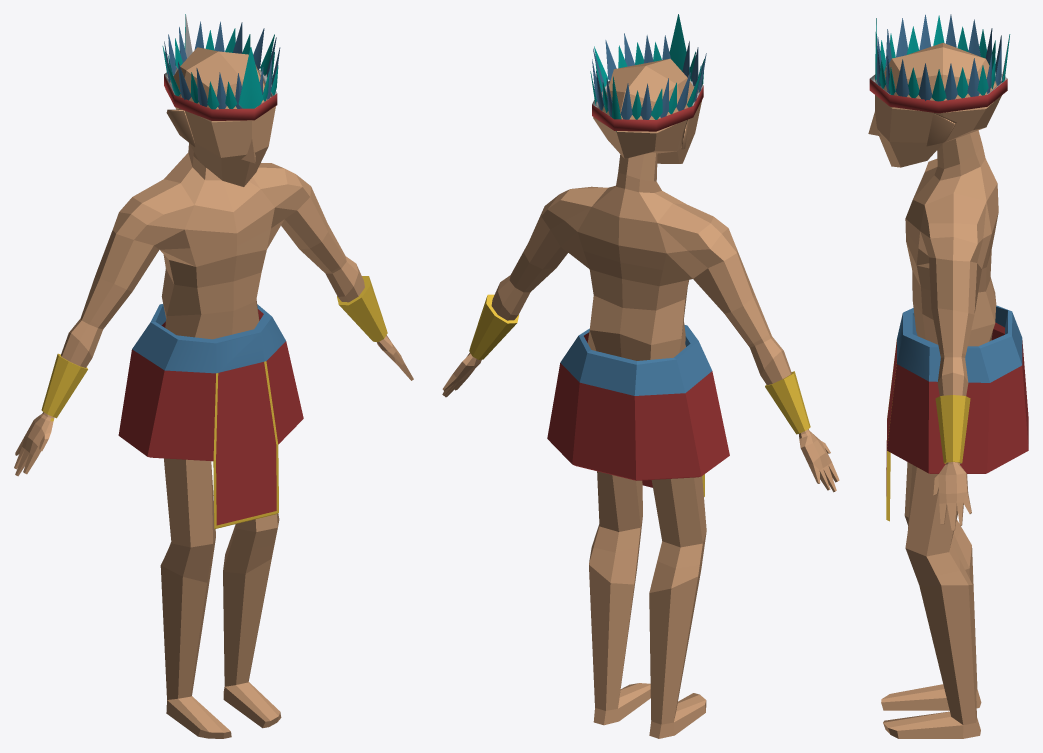
Rendered from indio_T4.fbx.
The picture shows the model from 3 angles, left to right: view 1: azimuth 30°, elevation 25°; view 2: azimuth 150°, elevation 25°; view 3: azimuth 270°, elevation 25°; orthographic projection. The views are drawn at different scales.
Parts seen in each view (by area): view 1: polySurface17; view 2: polySurface17; view 3: polySurface17.
Boxes of the visible parts, x1,y1,x2,y2 form: polySurface17: (14,14,413,738); polySurface17: (442,14,839,738); polySurface17: (868,14,1028,738).
Bounding box in the file's own units: 3.88 × 6.44 × 1.34.
